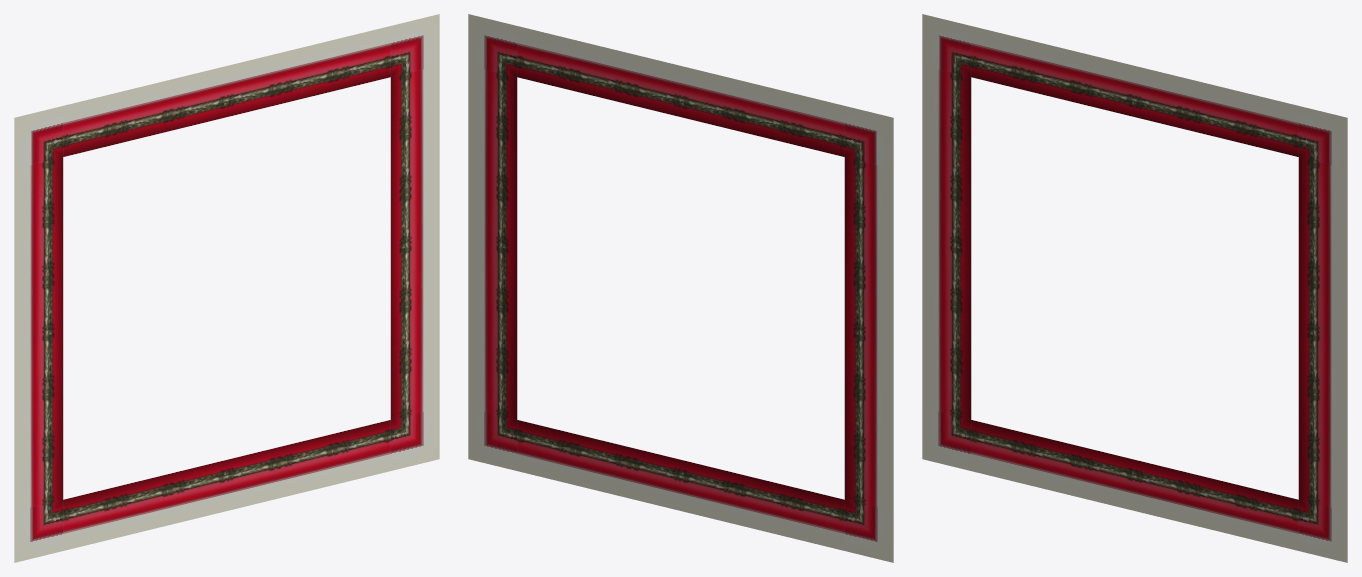
Rendered from general_frame_e.fbx.
The picture shows the model from 3 angles, left to right: view 1: azimuth 30°, elevation 25°; view 2: azimuth 150°, elevation 25°; view 3: azimuth 330°, elevation 25°; orthographic projection.
Visible parts, largest first — view 1: Leftmesh, Rightmesh, TopMesh, BottomMesh, TopLeftmesh, BottomRightMesh, TopRightMesh, BottomLeftMesh; view 2: Leftmesh, Rightmesh, TopMesh, BottomMesh, TopLeftmesh, BottomRightMesh, TopRightMesh, BottomLeftMesh; view 3: Leftmesh, Rightmesh, TopMesh, BottomMesh, TopRightMesh, BottomLeftMesh, TopLeftmesh, BottomRightMesh.
Part boxes in pixels (bbox=[...]): Leftmesh: bbox=[14, 157, 63, 511]; Rightmesh: bbox=[390, 65, 439, 419]; TopMesh: bbox=[63, 26, 390, 156]; BottomMesh: bbox=[63, 420, 390, 550]; TopLeftmesh: bbox=[14, 106, 63, 168]; BottomRightMesh: bbox=[390, 408, 439, 470]; TopRightMesh: bbox=[390, 14, 439, 76]; BottomLeftMesh: bbox=[14, 500, 63, 562]; Leftmesh: bbox=[844, 157, 893, 511]; Rightmesh: bbox=[468, 65, 517, 419]; TopMesh: bbox=[517, 26, 844, 156]; BottomMesh: bbox=[517, 420, 844, 550]; TopLeftmesh: bbox=[844, 106, 893, 168]; BottomRightMesh: bbox=[468, 408, 517, 470]; TopRightMesh: bbox=[468, 14, 517, 76]; BottomLeftMesh: bbox=[844, 500, 893, 562]; Leftmesh: bbox=[922, 65, 971, 419]; Rightmesh: bbox=[1298, 157, 1347, 511]; TopMesh: bbox=[971, 26, 1298, 156]; BottomMesh: bbox=[971, 420, 1298, 550]; TopRightMesh: bbox=[1298, 106, 1347, 168]; BottomLeftMesh: bbox=[922, 408, 971, 470]; TopLeftmesh: bbox=[922, 14, 971, 76]; BottomRightMesh: bbox=[1298, 500, 1347, 562].
Bounding box in the file's own units: 130 × 130 × 2.13e-05.
Materials: 2 (2 with a texture image).
